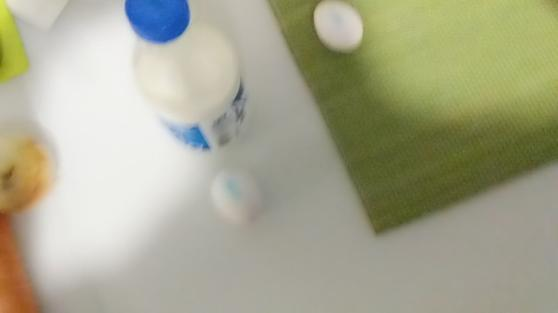egg: (201, 164, 275, 239), (298, 1, 380, 66)
milk: (117, 1, 263, 160)
